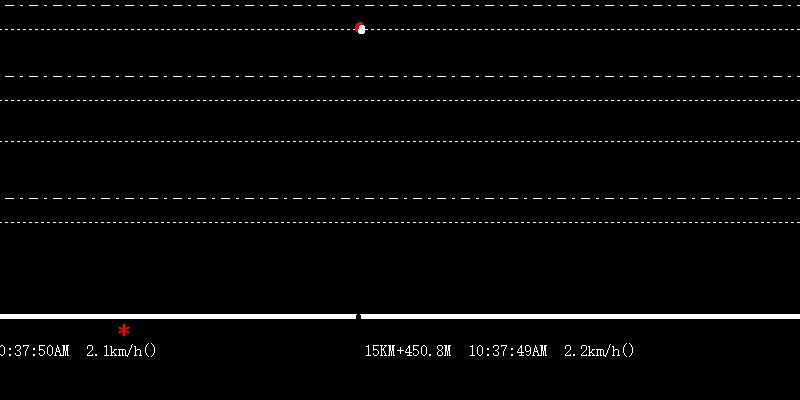face_s: (352, 21, 366, 35)
star: (115, 323, 131, 337)
